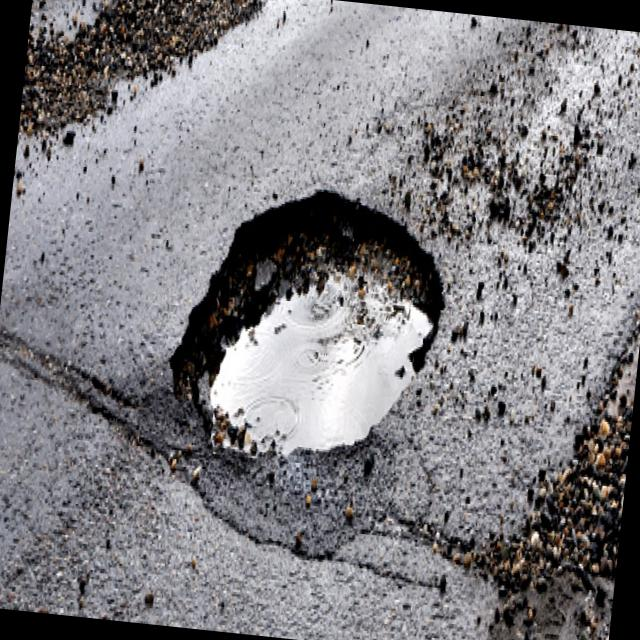Potholes: (167, 127, 498, 506)
